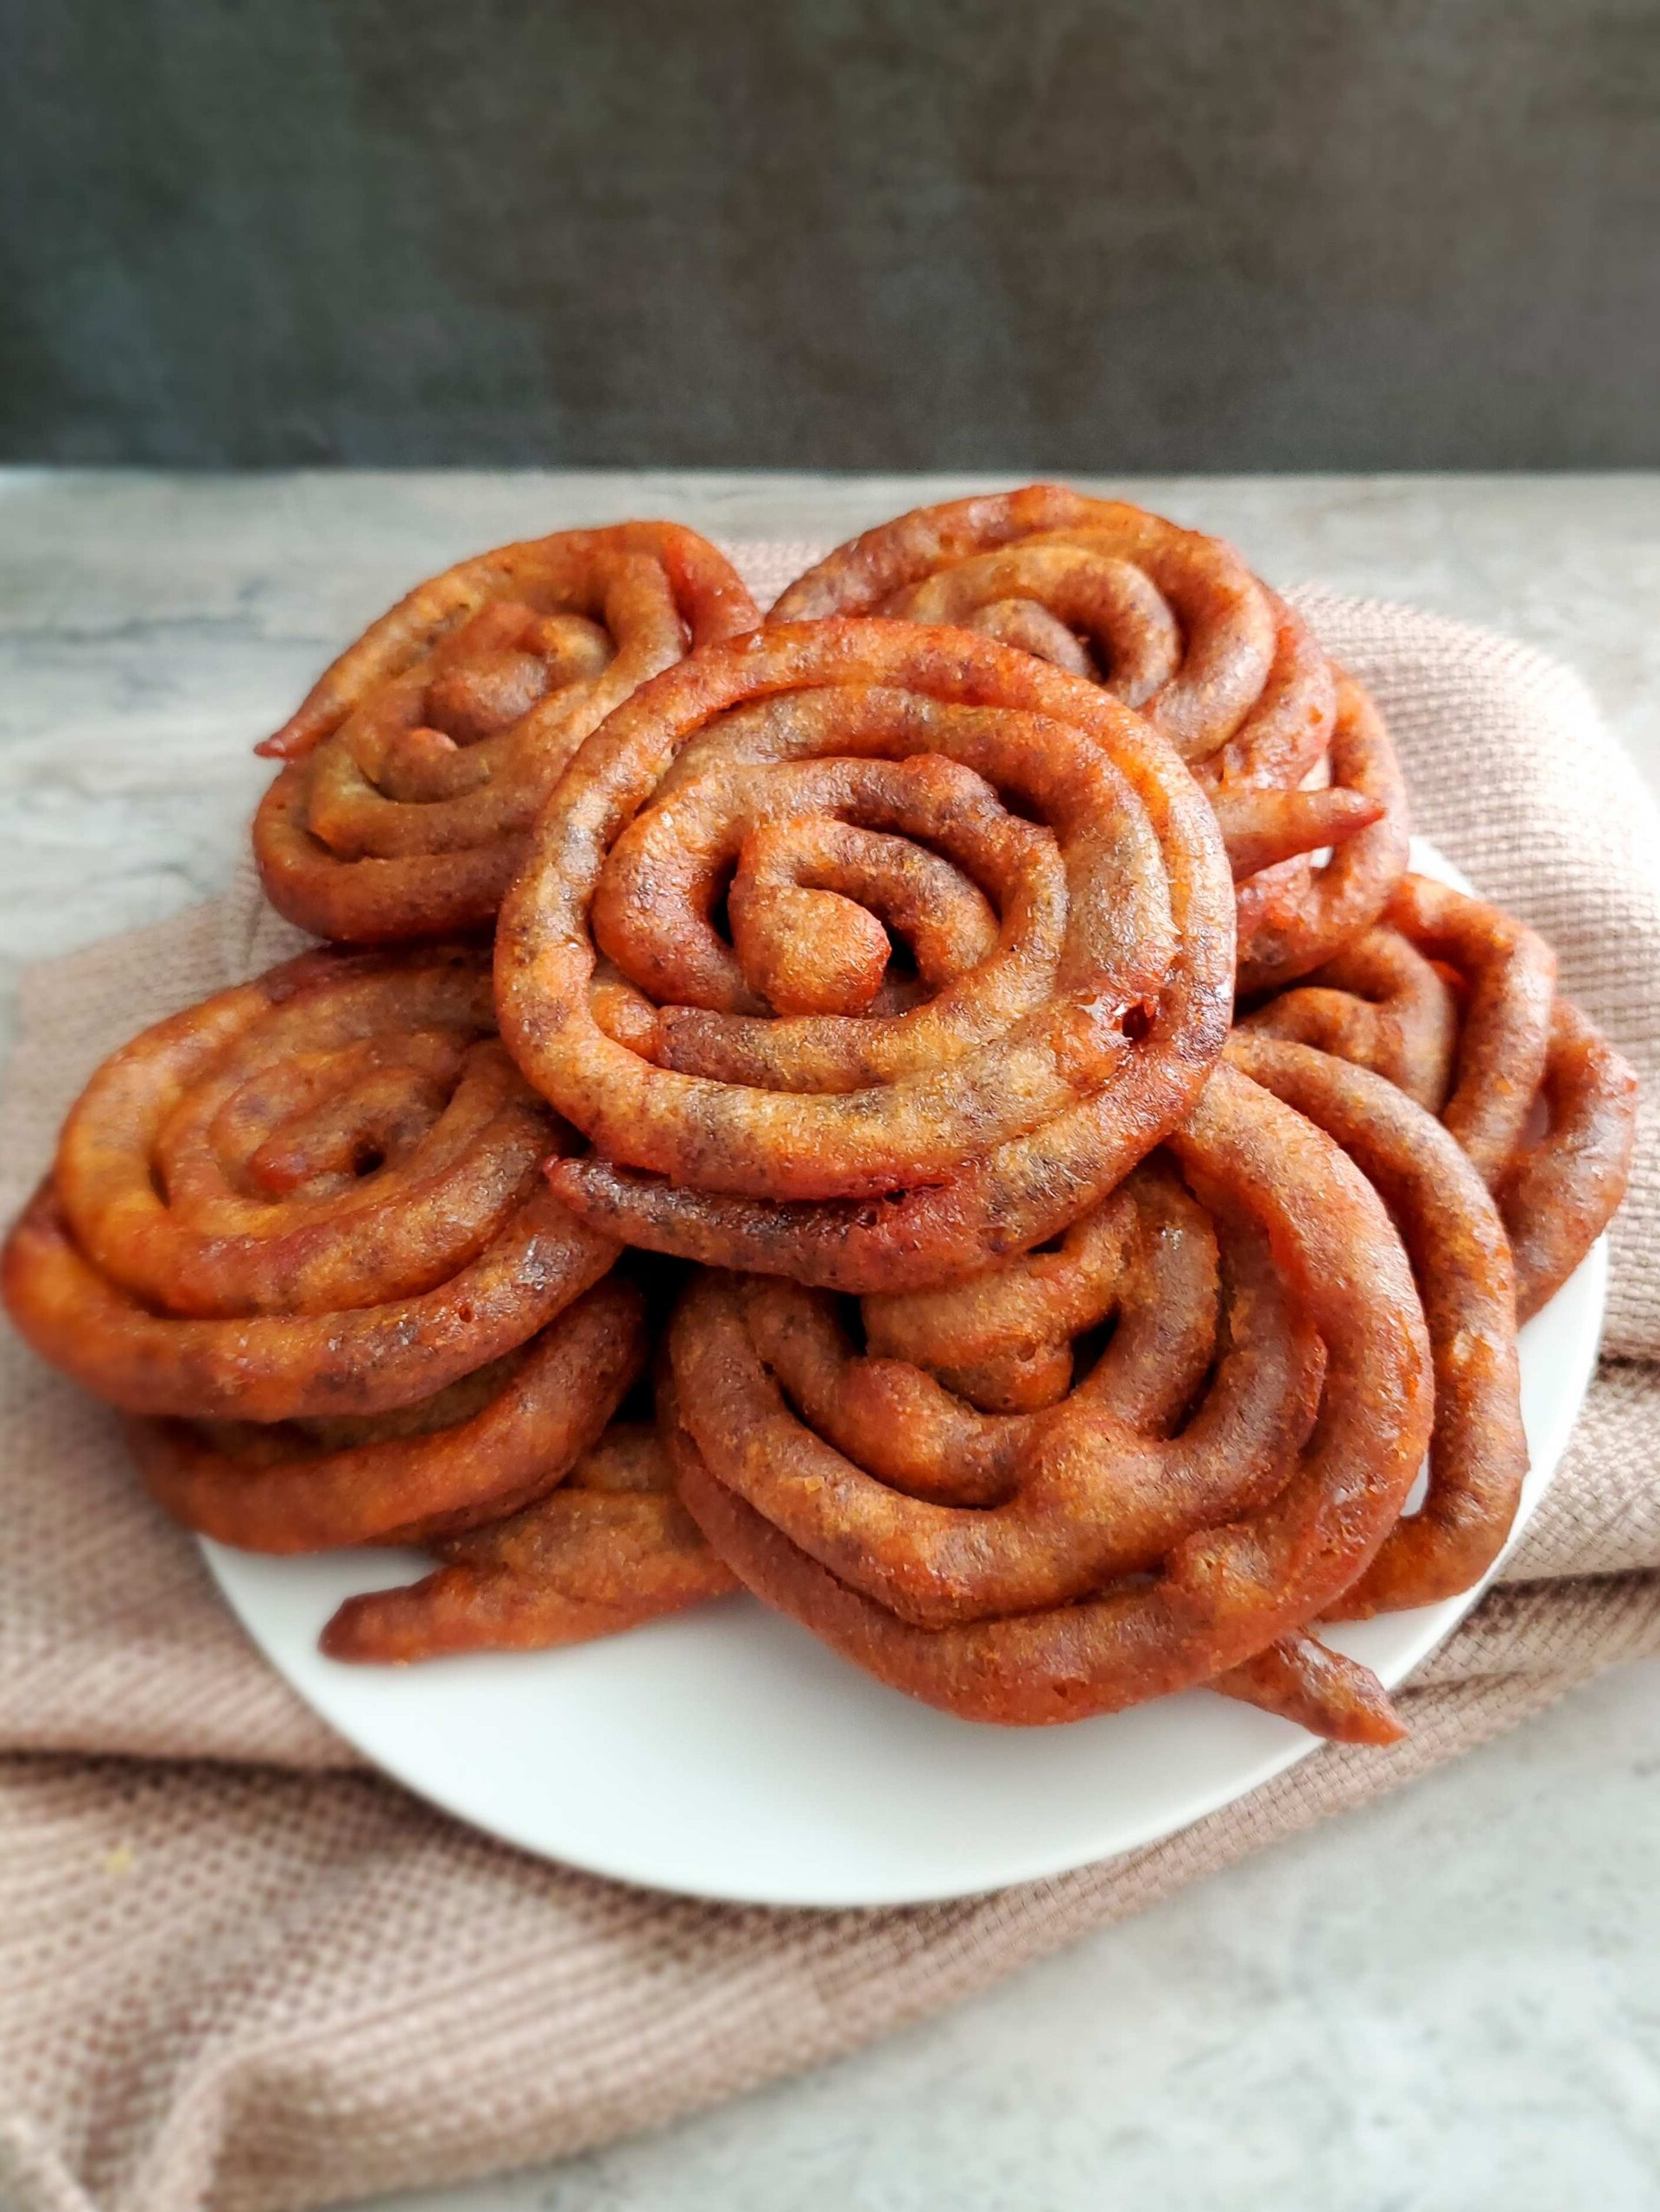pani_walalu: (631, 1046, 1531, 1726), (485, 617, 1240, 1285), (31, 927, 631, 1544), (246, 511, 753, 941), (792, 490, 1313, 751)
